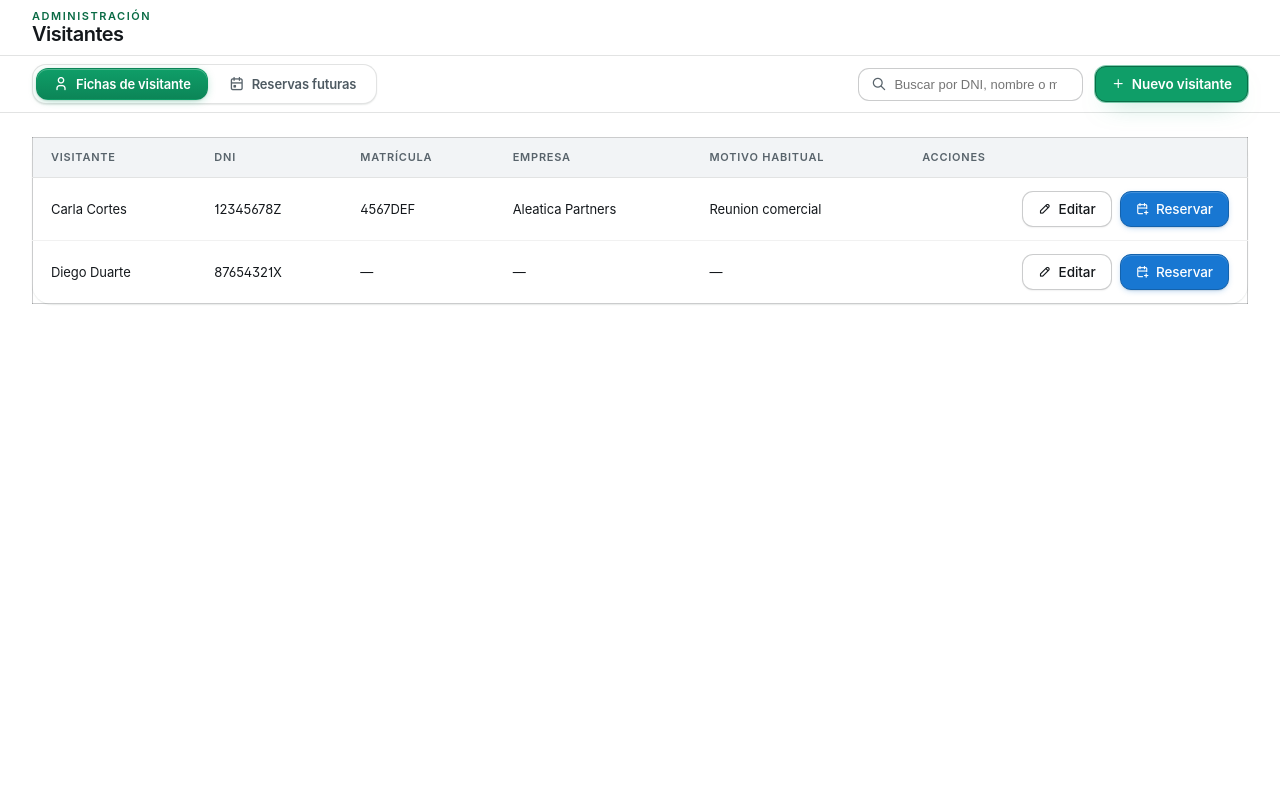
VisitorsPage (ADMIN) › should_open_new_reservation_modal_when_clicking_new_reservation
The width and height of the screenshot is (1280, 800).
Expected: the text "Carla Cortes" is shown, [32,178,196,240]
Step 1. Click the button "Reservas futuras" → [293, 84], box [212,68,373,100]
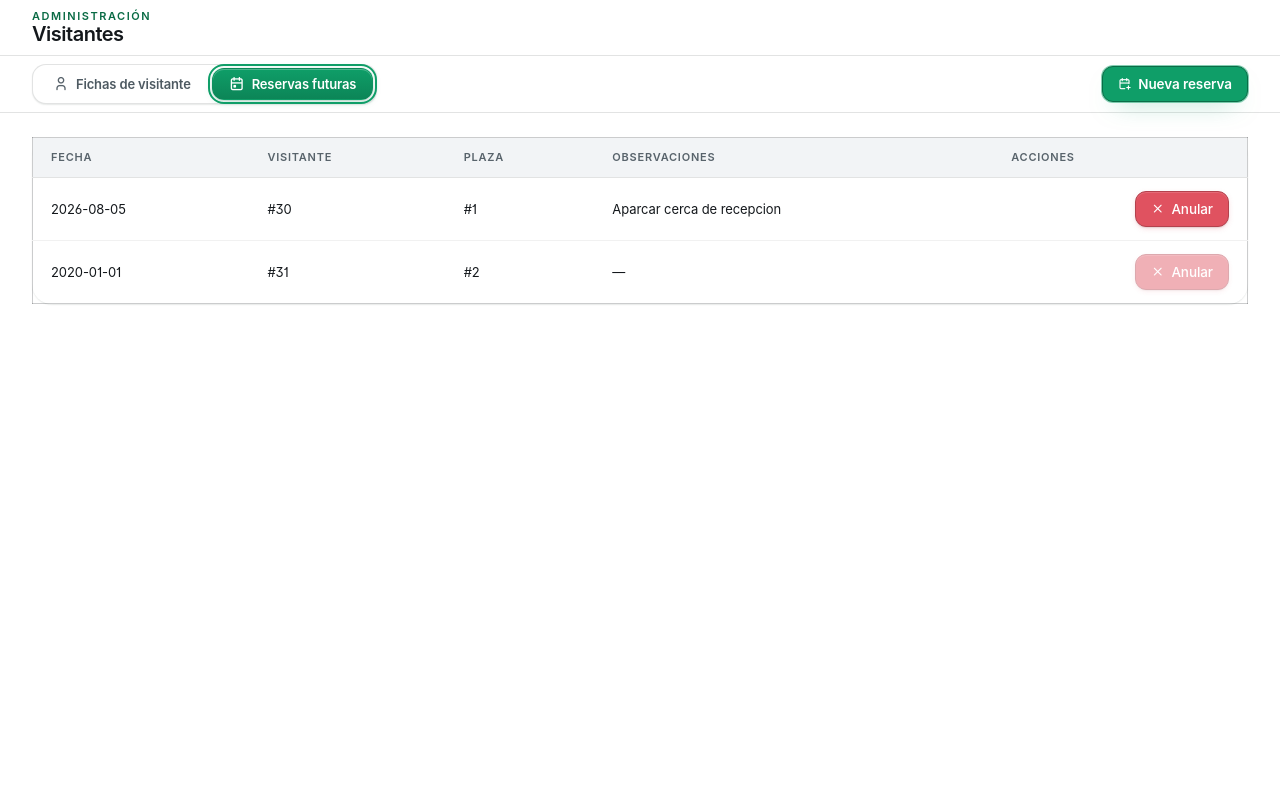
Step 2. Click the button "Nueva reserva" → [1175, 84], box [1102,66,1248,102]
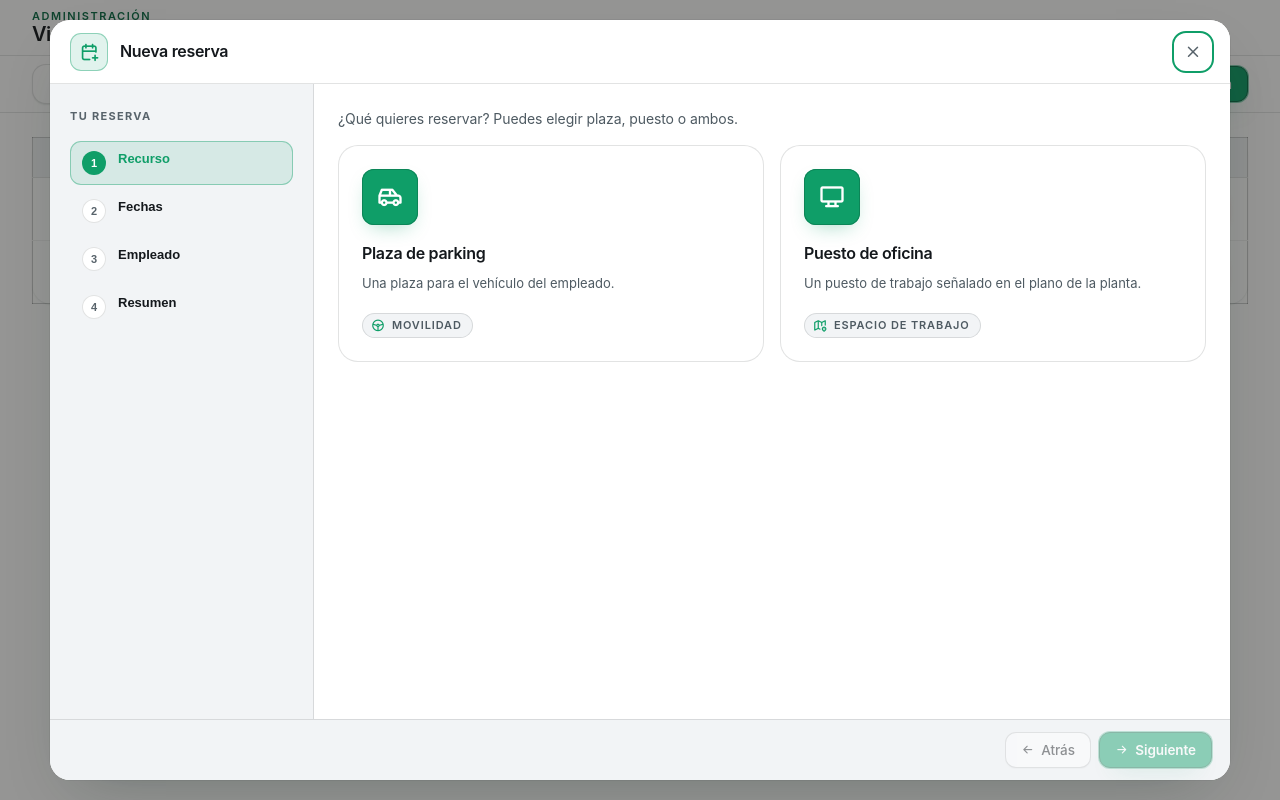
Expected: the heading "Nueva reserva" is shown, [70,32,228,70]
